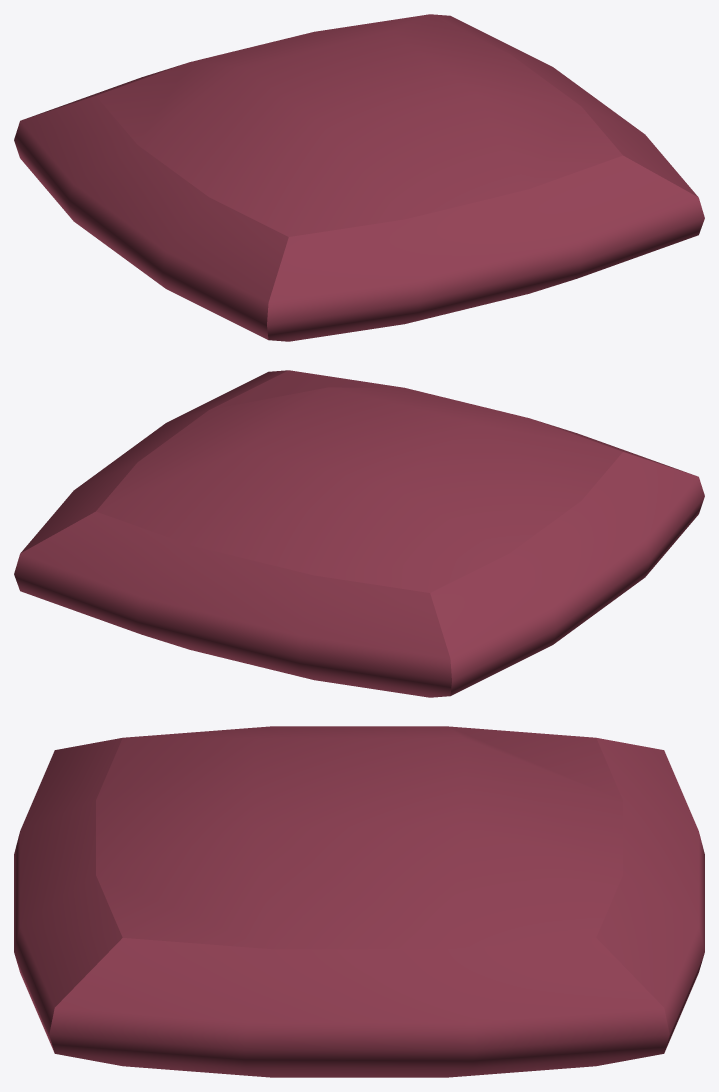
The model's file is sofa_Pillow2.fbx.
3 views of the same model, one above another, from view 1: azimuth 30°, elevation 25°; view 2: azimuth 150°, elevation 25°; view 3: azimuth 270°, elevation 25° (orthographic). The views are drawn at different scales.
Visible parts, largest first — view 1: pCube2; view 2: pCube2; view 3: pCube2.
Part boxes in pixels (x1=…): pCube2: x1=14, y1=14, x2=704, y2=341; pCube2: x1=14, y1=370, x2=704, y2=697; pCube2: x1=14, y1=726, x2=704, y2=1077.
Bounding box in the file's own units: 1.79 × 0.6276 × 1.79.
